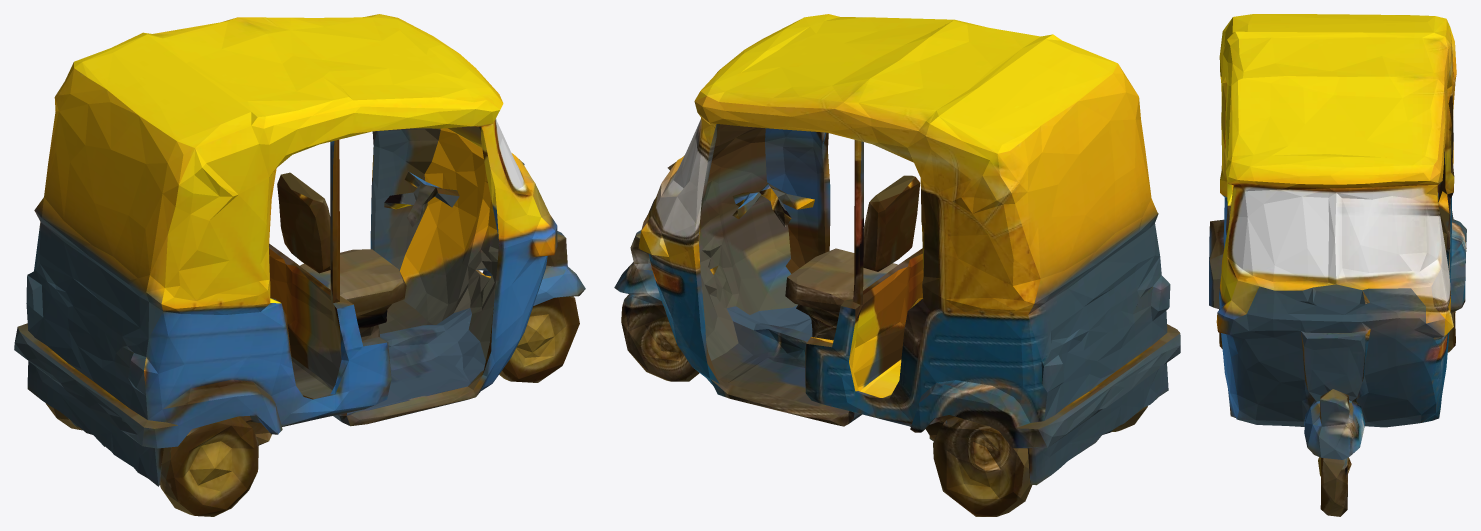
The model's file is tuktuk.glb.
3 renders of one model, left to right at view 1: azimuth 30°, elevation 25°; view 2: azimuth 150°, elevation 25°; view 3: azimuth 270°, elevation 25°, orthographic. The views are drawn at different scales.
Visible parts, largest first — view 1: tuktuk; view 2: tuktuk; view 3: tuktuk.
Part boxes in pixels (bbox=[...]): tuktuk: bbox=[14, 14, 585, 516]; tuktuk: bbox=[614, 14, 1180, 516]; tuktuk: bbox=[1209, 14, 1466, 516].
Size of the model in its own units: 2.7 by 1.98 by 1.36.
Materials: 1 (1 with a texture image).
